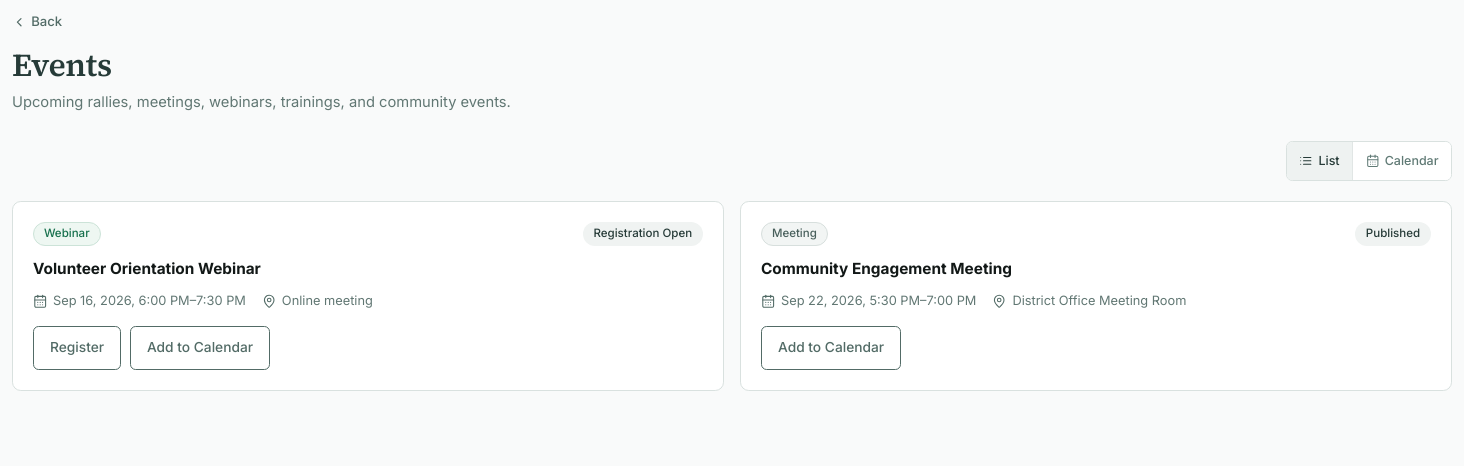
Scenario: Events › reactivates a Cancelled registration instead of creating a second row
The image size is (1464, 466).
Check: the element "Volunteer Orientation Webinar" is shown, box 12,201 -> 724,391
Click the button "Register" at (77, 348), box 33,326 -> 121,370
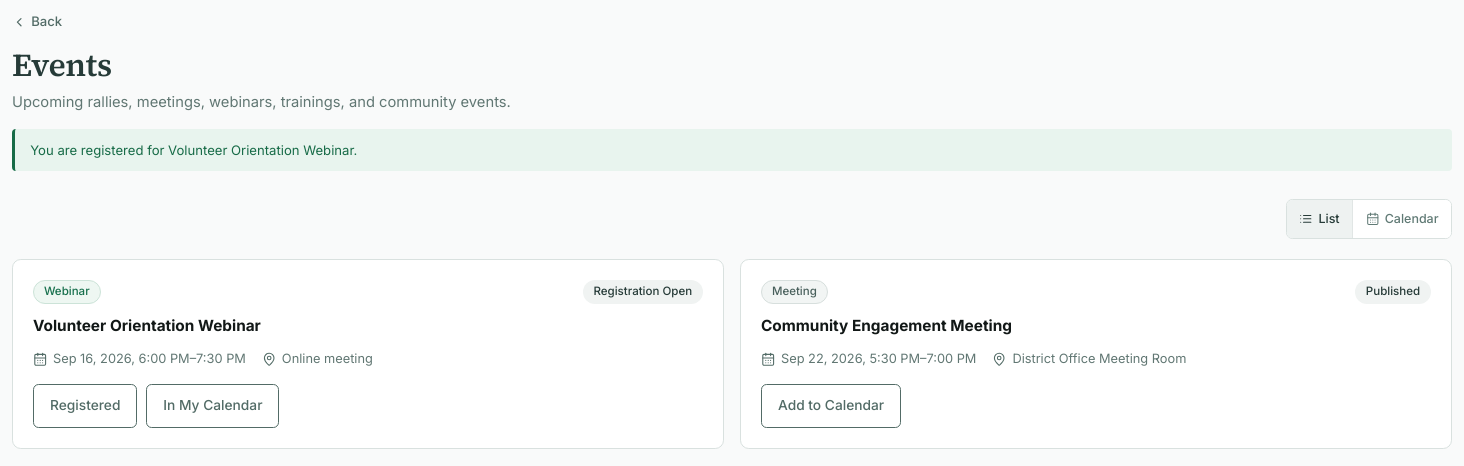
Check: the button "Registered" is disabled, box 33,384 -> 137,428
